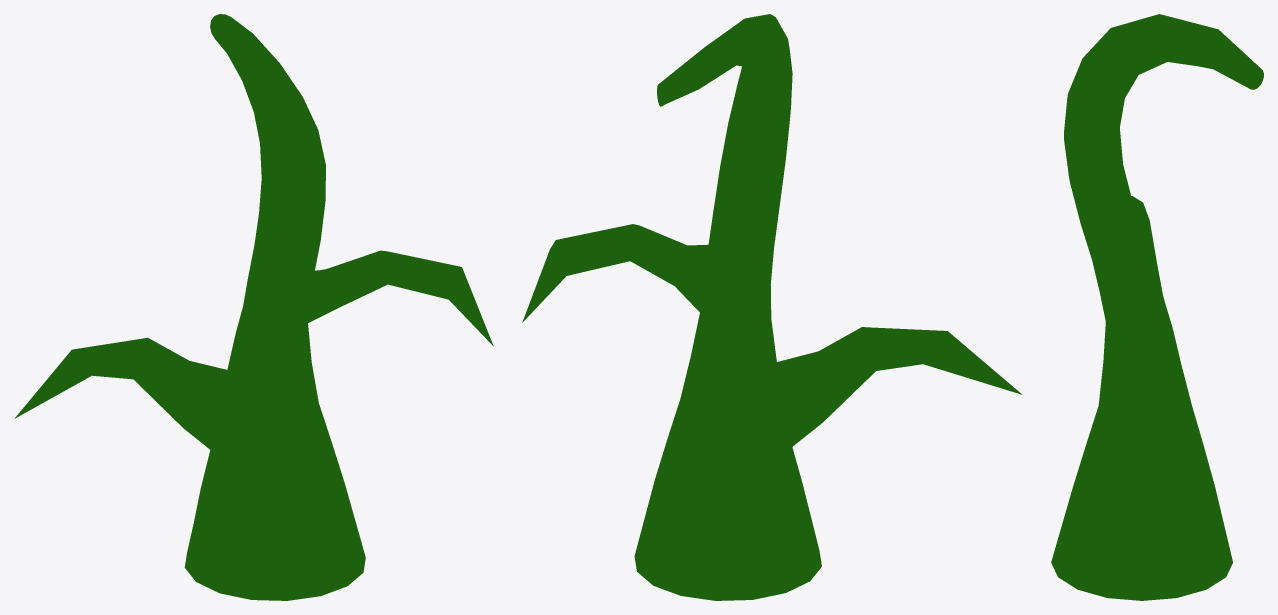
Rendered from GunPlant.fbx.
The picture shows the model from 3 angles, left to right: view 1: azimuth 30°, elevation 25°; view 2: azimuth 150°, elevation 25°; view 3: azimuth 270°, elevation 25°; orthographic projection. The views are drawn at different scales.
Visible parts, largest first — view 1: Plant; view 2: Plant; view 3: Plant.
Part boxes in pixels (<box>): Plant: <box>14,14,493,600</box>; Plant: <box>522,14,1022,600</box>; Plant: <box>1051,14,1263,600</box>.
Size of the model in its own units: 0.7194 by 0.7646 by 0.2761.
